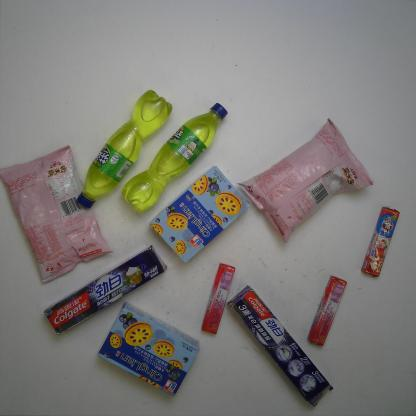Candy: (358, 203, 404, 280), (306, 274, 349, 349), (203, 261, 235, 339)
Dessert: (144, 163, 256, 269), (93, 307, 197, 400)
Drink: (72, 90, 174, 211), (121, 102, 228, 214)
Personal Hygiene: (229, 283, 335, 408), (41, 242, 169, 341)
Puffed Food: (236, 114, 376, 247), (1, 144, 117, 286)
